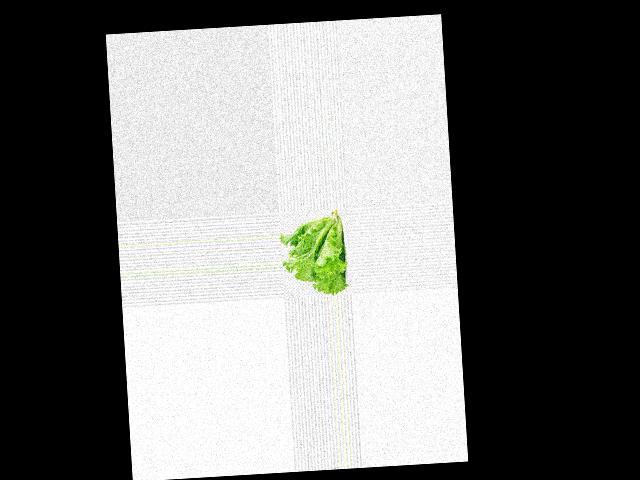lettuce: (279, 208, 346, 297)
